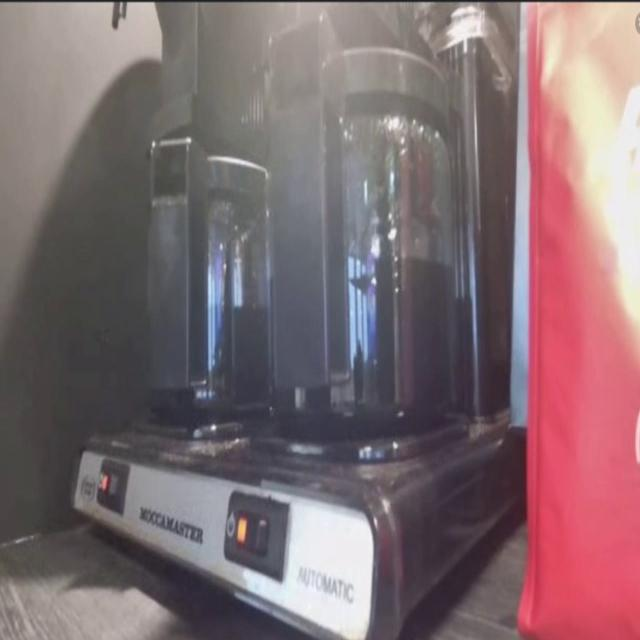coffee: (272, 129, 453, 429), (146, 204, 264, 418)
